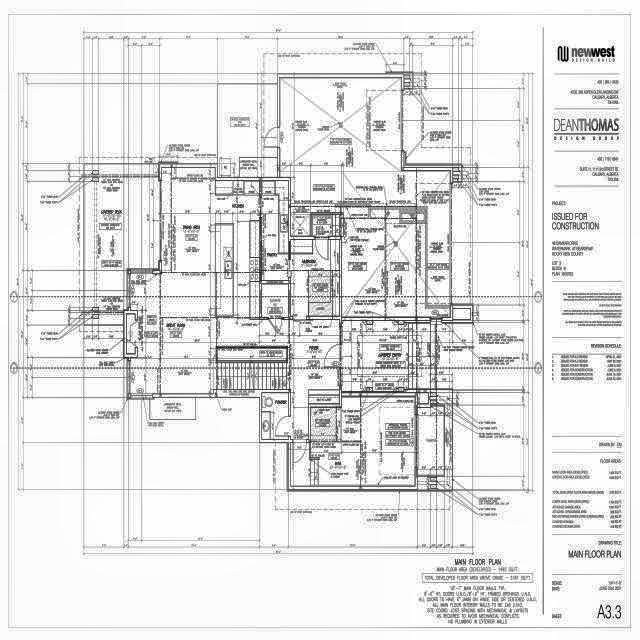room: (291, 396, 415, 486), (291, 240, 339, 316), (262, 181, 288, 280), (262, 393, 288, 439), (262, 284, 289, 317)
